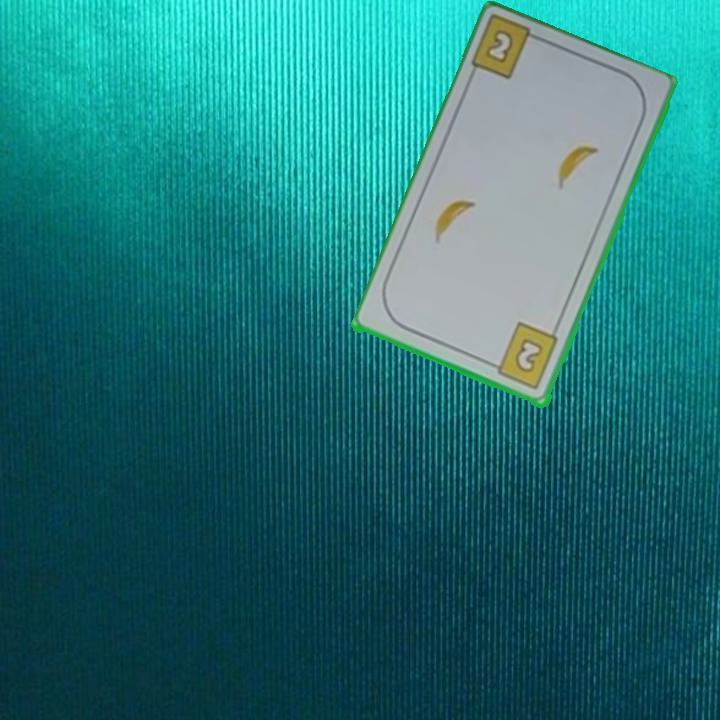2b: (485, 320, 562, 393), (482, 26, 517, 67)
